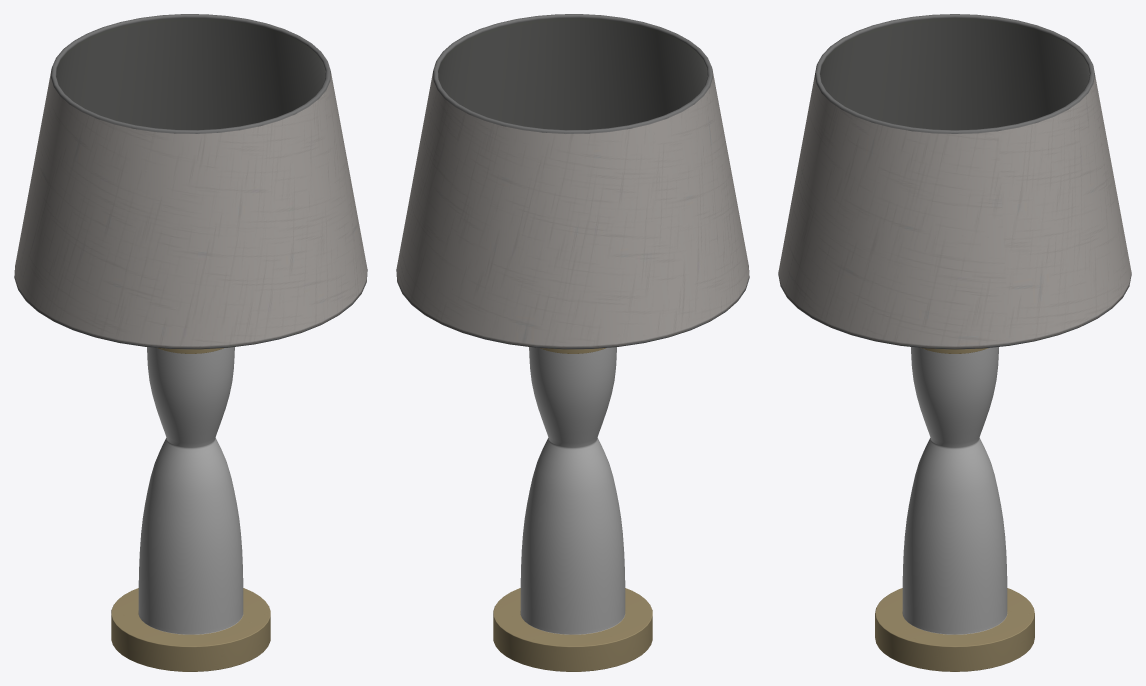
The model's file is lamp_B075X12JW7.glb.
3 renders of one model, left to right at view 1: azimuth 30°, elevation 25°; view 2: azimuth 150°, elevation 25°; view 3: azimuth 270°, elevation 25°, orthographic.
Visible parts, largest first — view 1: RootNode; view 2: RootNode; view 3: RootNode.
Boxes of the visible parts, x1,y1,x2,y2 form: RootNode: (14,14,367,671); RootNode: (396,14,749,671); RootNode: (778,14,1131,671).
Size of the model in its own units: 0.3088 by 0.5455 by 0.3088.
Materials: 1 (1 with a texture image).
